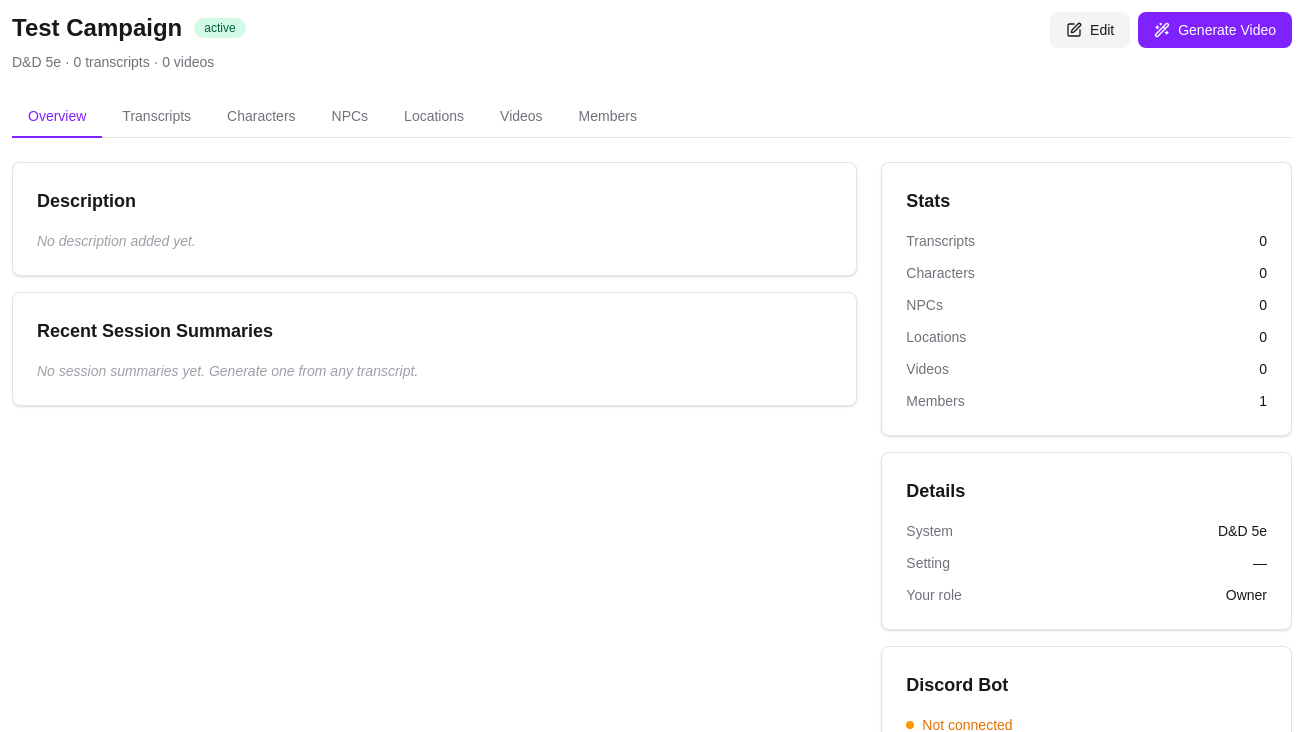
Test: CampaignDetailTabs — tab content › shows empty state when transcripts array is empty
Click the button "Transcripts".
click(157, 117)  # box [106, 96, 207, 138]
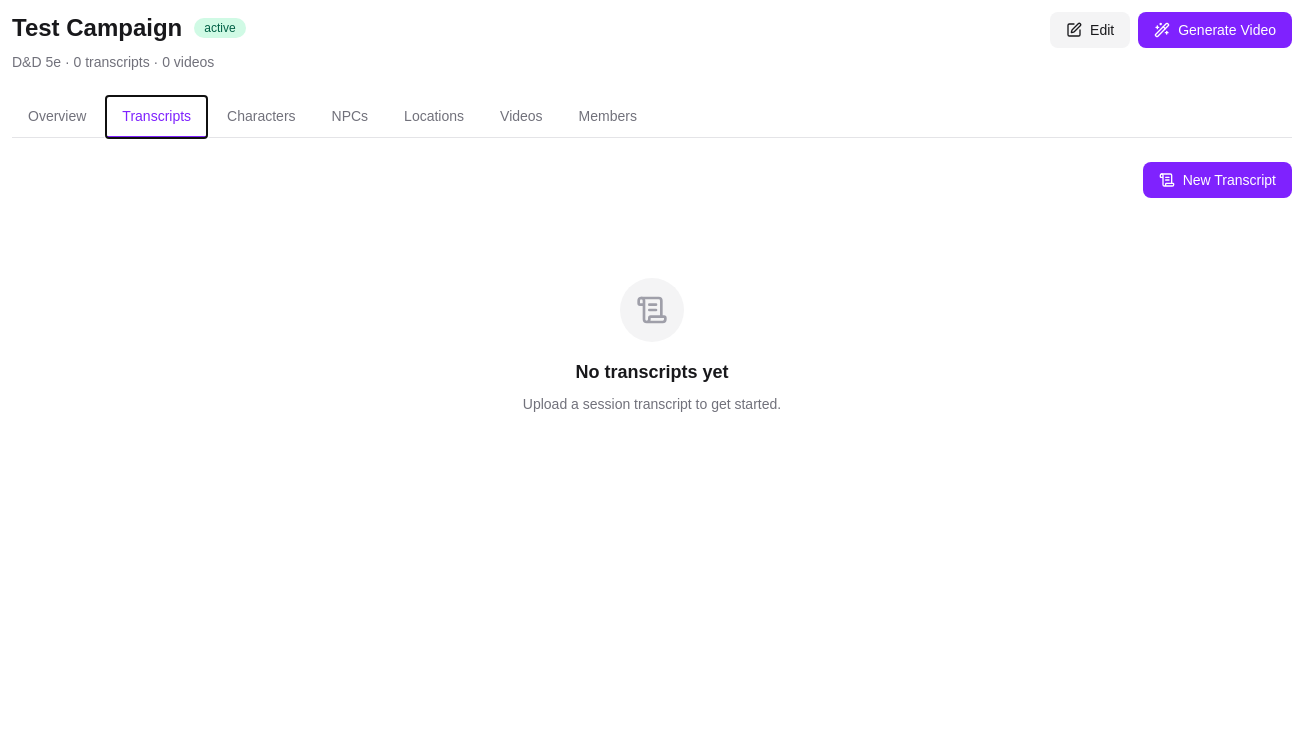
Expected: the heading "No transcripts yet" is shown, [576, 358, 728, 386]
